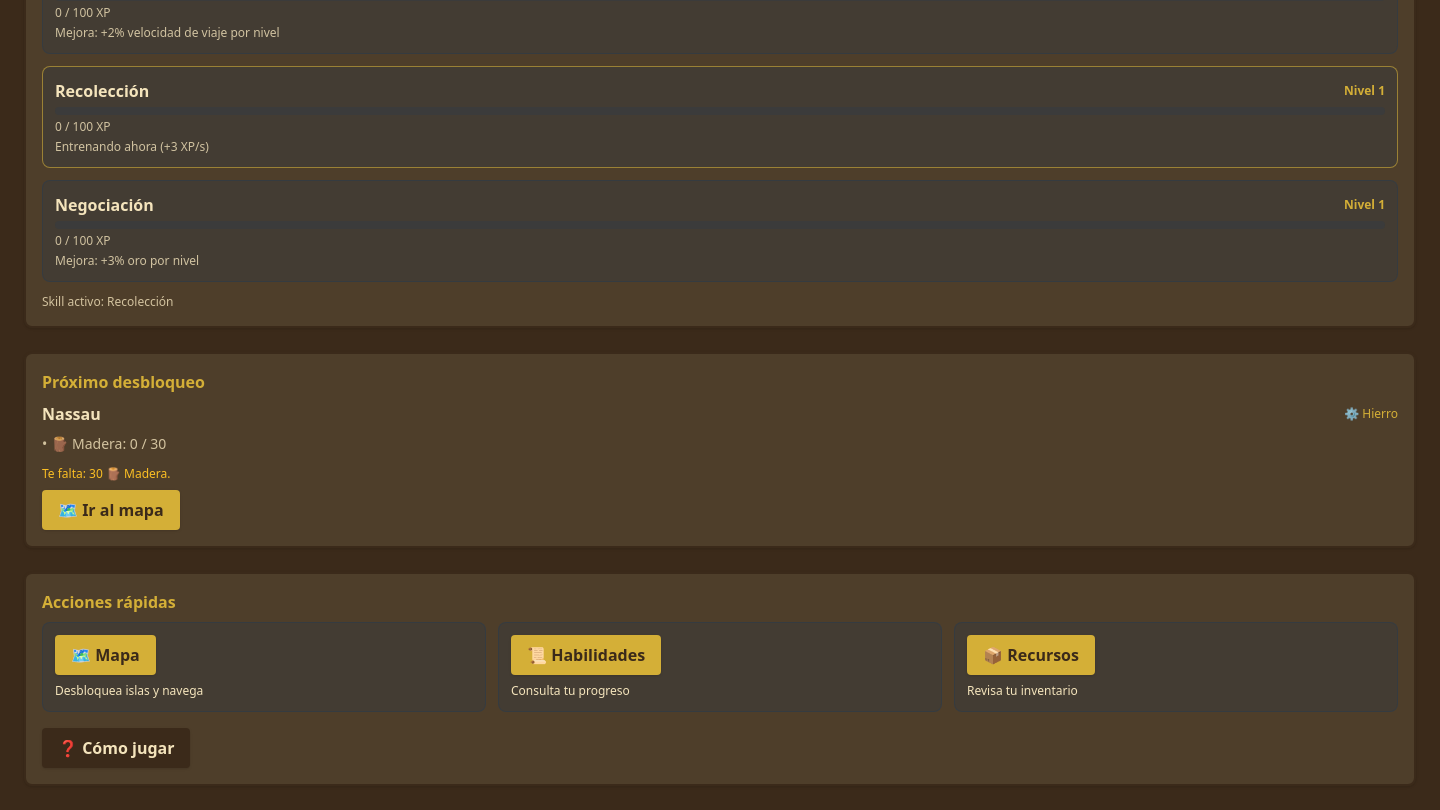
Home › opens the help modal from the quick actions
(page scrolled)
Step 1. Click the button "❓ Cómo jugar" → [116, 748], box x1=42 y1=728 x2=190 y2=768
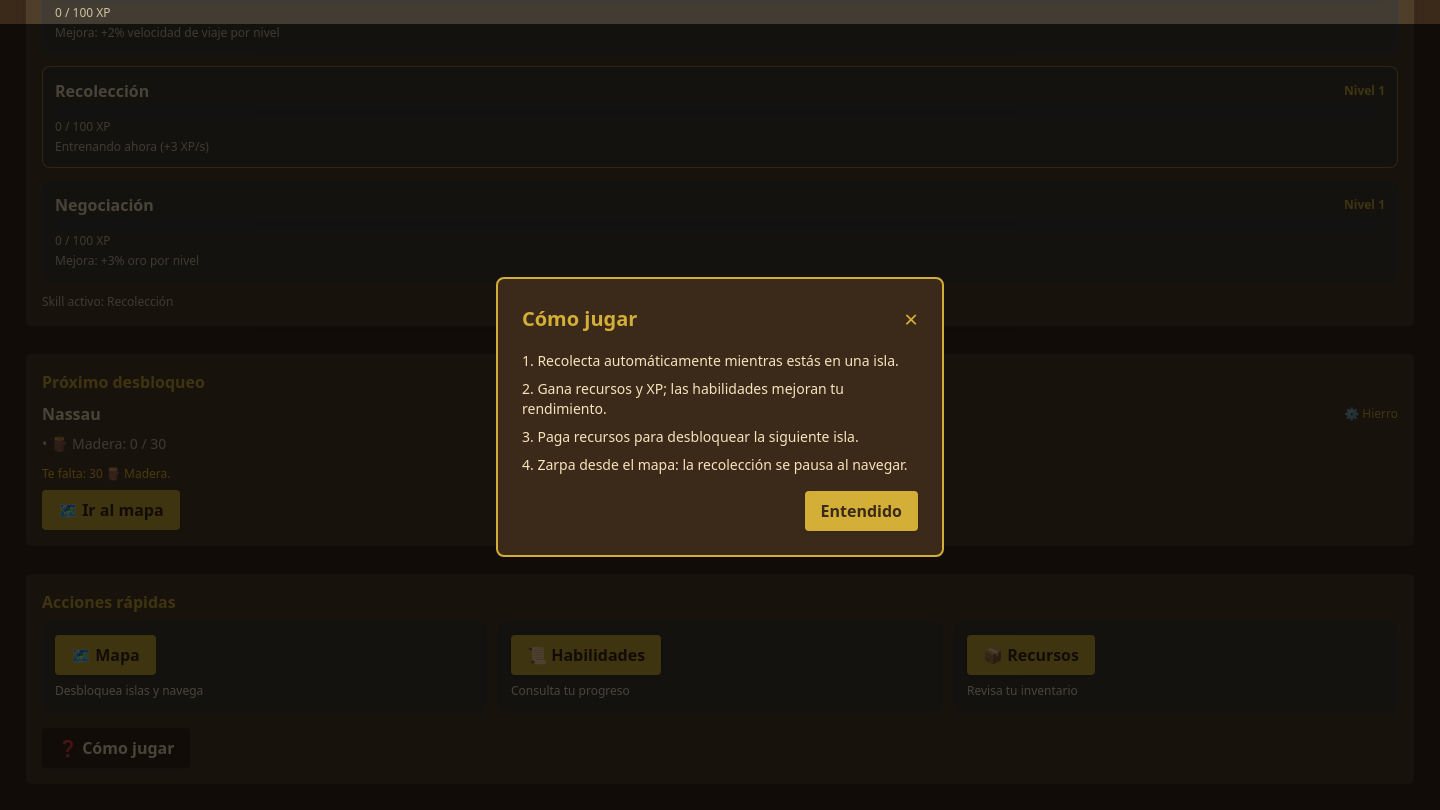
Result: the dialog "Cómo jugar" is shown at x1=496 y1=277 x2=944 y2=557
Step 2. Click the button "Entendido" → [861, 511], box x1=805 y1=491 x2=918 y2=531
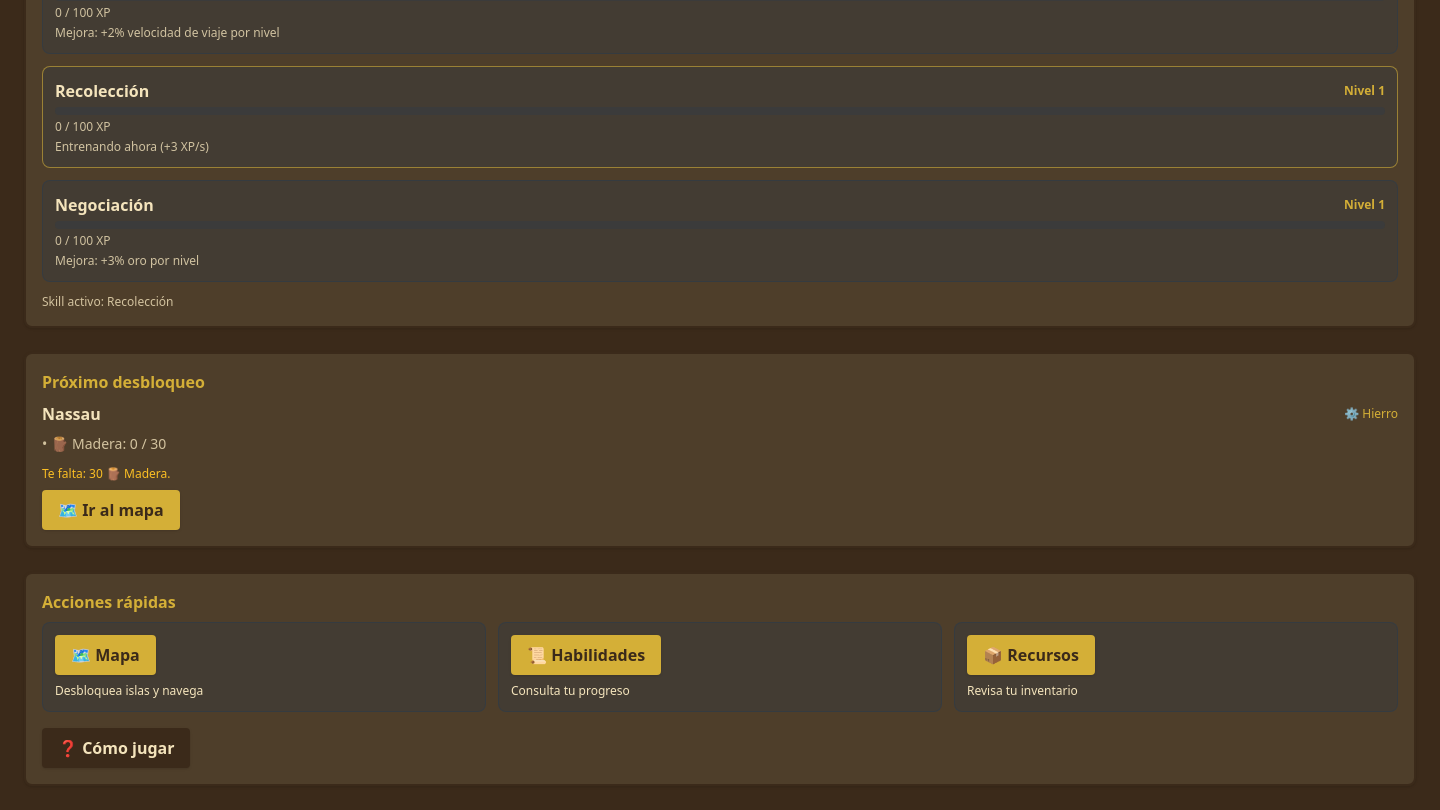
Result: the dialog is gone
